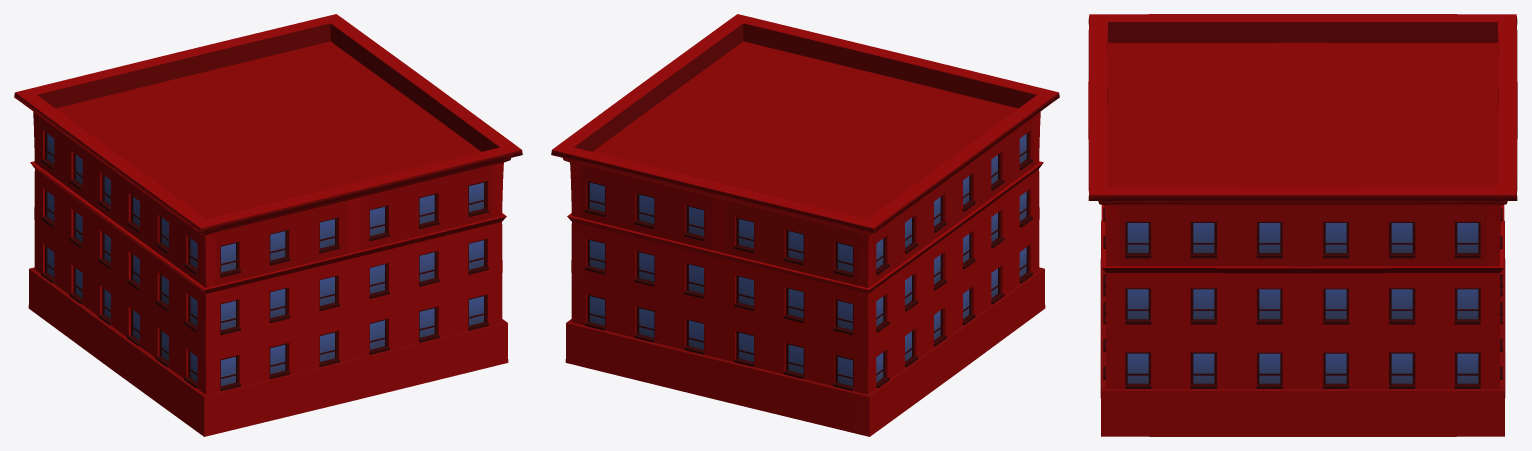
Rendered from buildings-residential-loft_v6.fbx.
3 renders of one model, left to right at view 1: azimuth 30°, elevation 25°; view 2: azimuth 150°, elevation 25°; view 3: azimuth 270°, elevation 25°, orthographic. The views are drawn at different scales.
Parts seen in each view (by area): view 1: Loft_v6_base, Loft_v6_windowRefl; view 2: Loft_v6_base, Loft_v6_windowRefl; view 3: Loft_v6_base, Loft_v6_windowRefl.
Part boxes in pixels (box(x1,y1,x2,y2)): Loft_v6_base: box(14, 14, 522, 436); Loft_v6_windowRefl: box(47, 134, 483, 386); Loft_v6_base: box(551, 14, 1059, 436); Loft_v6_windowRefl: box(590, 134, 1026, 386); Loft_v6_base: box(1088, 14, 1517, 436); Loft_v6_windowRefl: box(1127, 223, 1478, 383).
Size of the model in its own units: 24.1 by 15.29 by 24.1.
